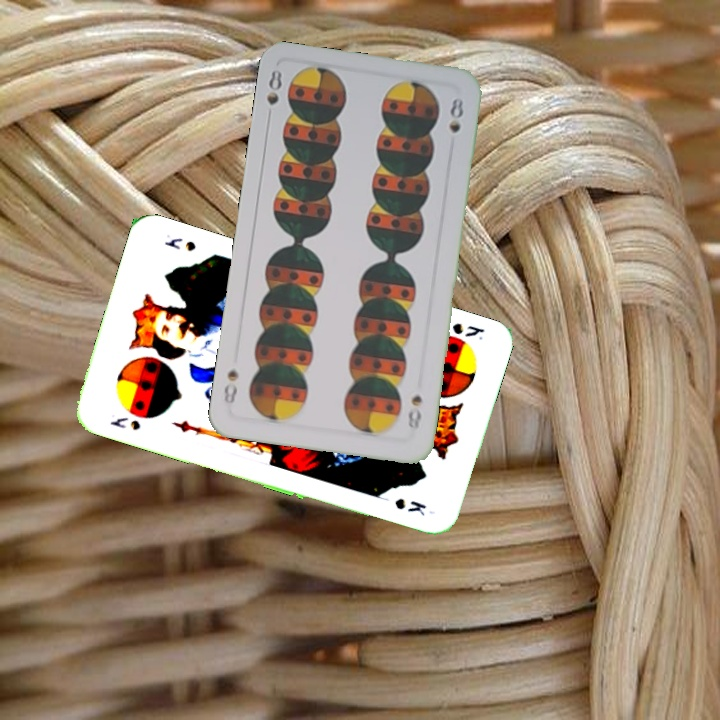S8: (262, 65, 285, 124), (403, 391, 424, 435)
SK: (448, 318, 487, 343), (106, 413, 143, 433)
